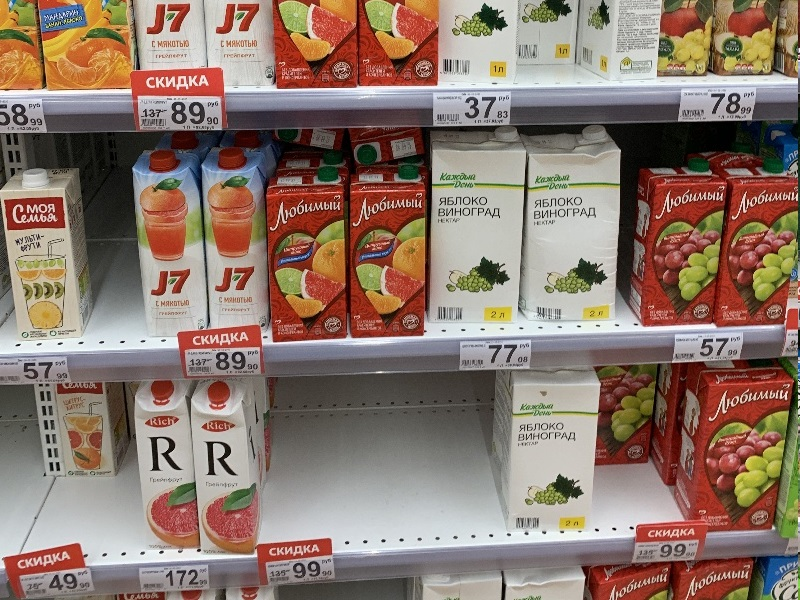juice: (674, 361, 789, 542), (126, 147, 216, 337), (260, 166, 355, 344), (637, 159, 730, 335), (343, 161, 432, 343), (190, 378, 273, 563), (126, 381, 210, 558), (715, 156, 796, 329), (203, 143, 274, 327)
